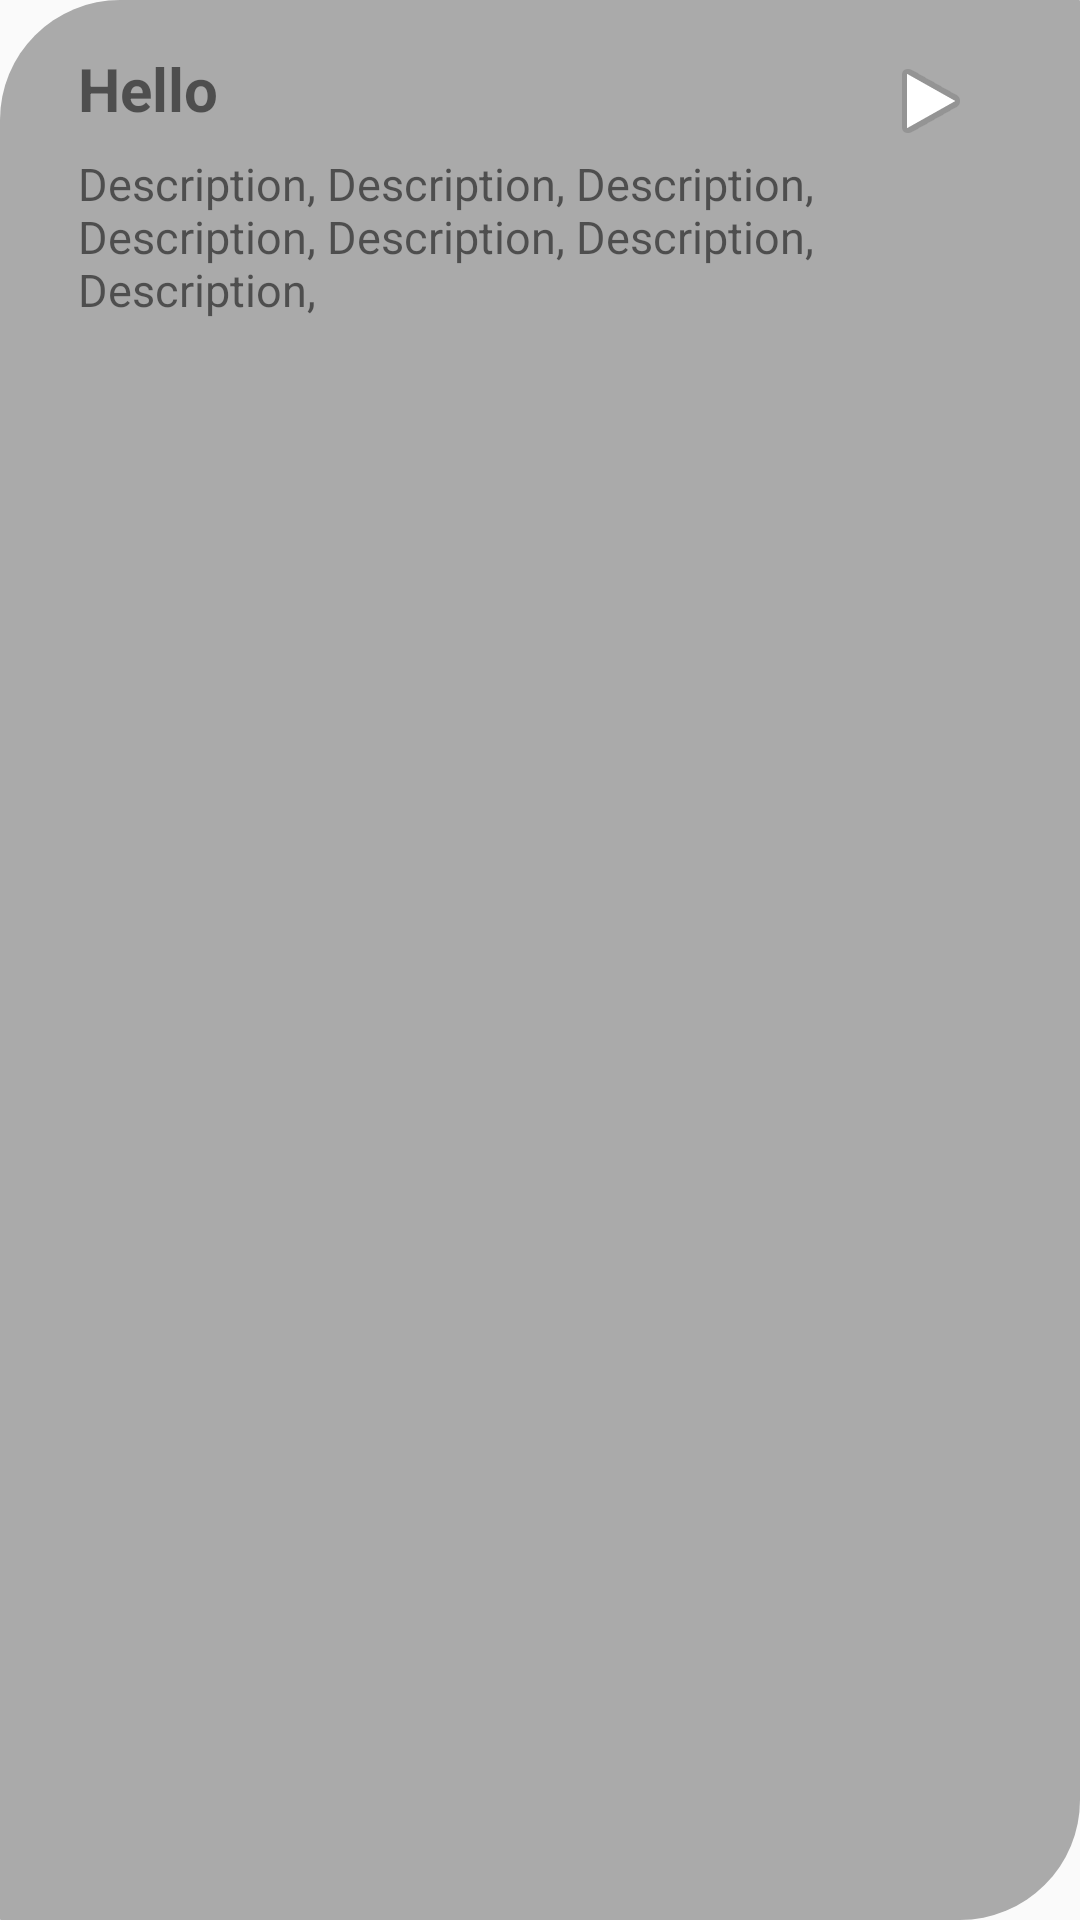

Icons on this 1080*1920 Android screen, each with the point to tap as [x,y]:
play: [931,101]
